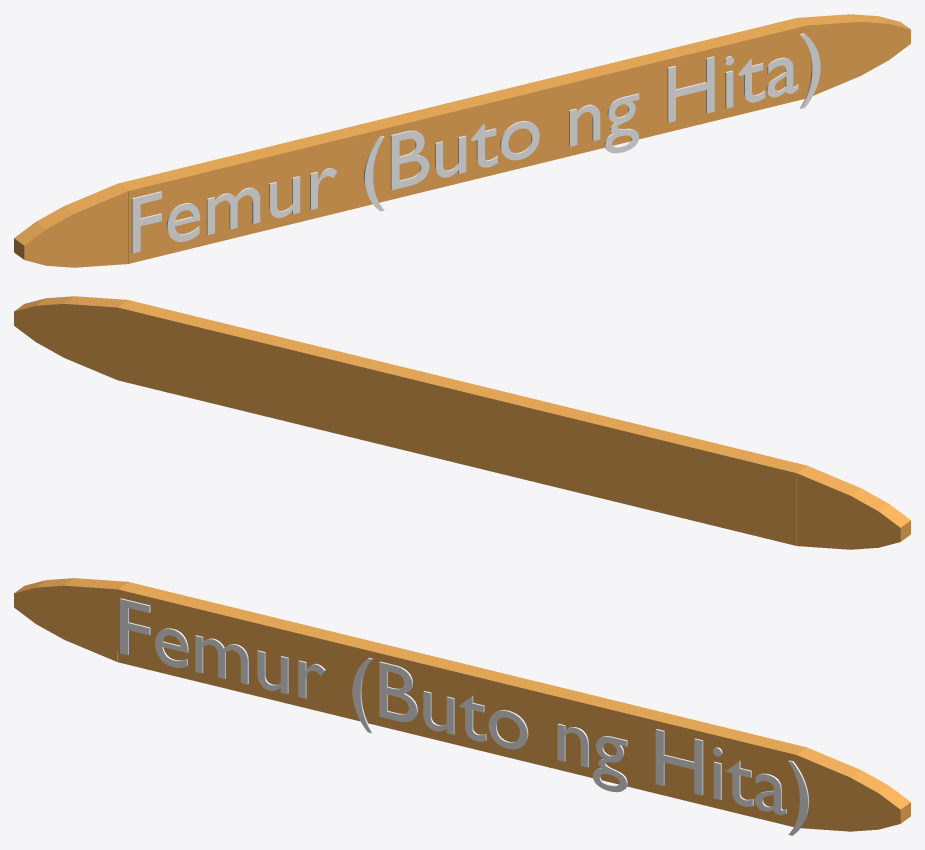
File: txtFemur.fbx
The picture shows the model from 3 angles, top to bottom: view 1: azimuth 30°, elevation 25°; view 2: azimuth 150°, elevation 25°; view 3: azimuth 330°, elevation 25°; orthographic projection.
Parts seen in each view (by area): view 1: TagContainer.058, Text.059; view 2: TagContainer.058; view 3: TagContainer.058, Text.059.
Part boxes in pixels (x1,y1,x2,y2): TagContainer.058: (14, 14, 910, 267); Text.059: (131, 33, 820, 253); TagContainer.058: (14, 296, 910, 549); TagContainer.058: (14, 578, 910, 831); Text.059: (120, 598, 809, 835).
Bounding box in the file's own units: 526 × 45.81 × 11.79.
